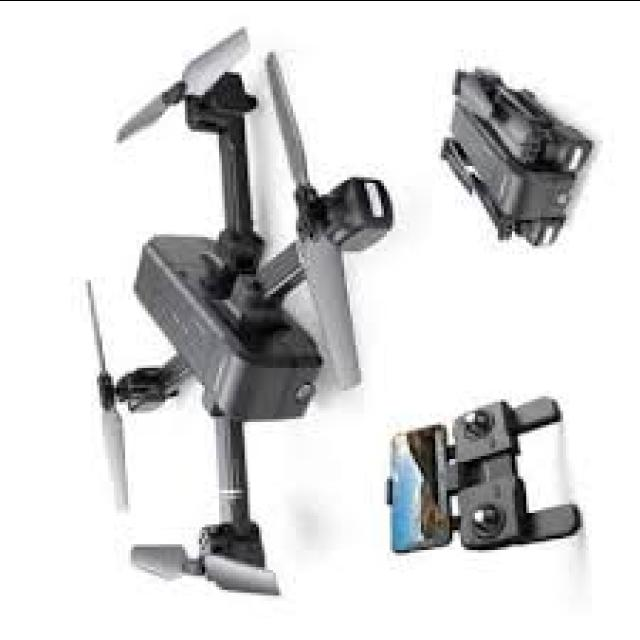drone: (65, 0, 398, 640)
